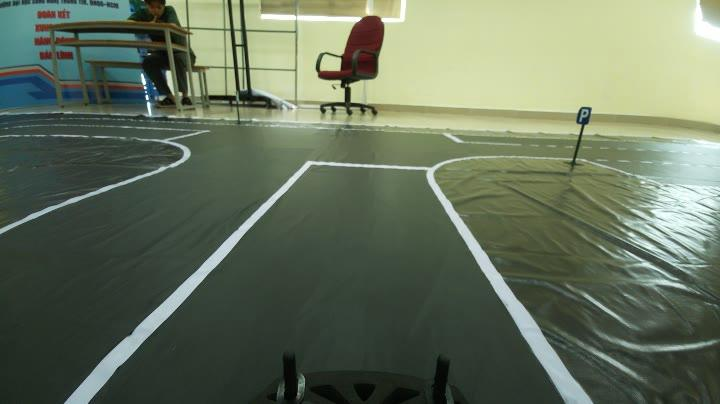parking: (569, 100, 598, 128)
